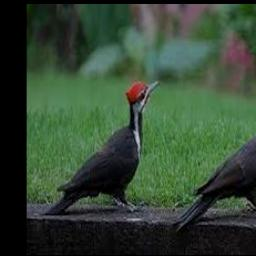Woodpecker: (44, 79, 161, 214), (173, 98, 256, 230)
